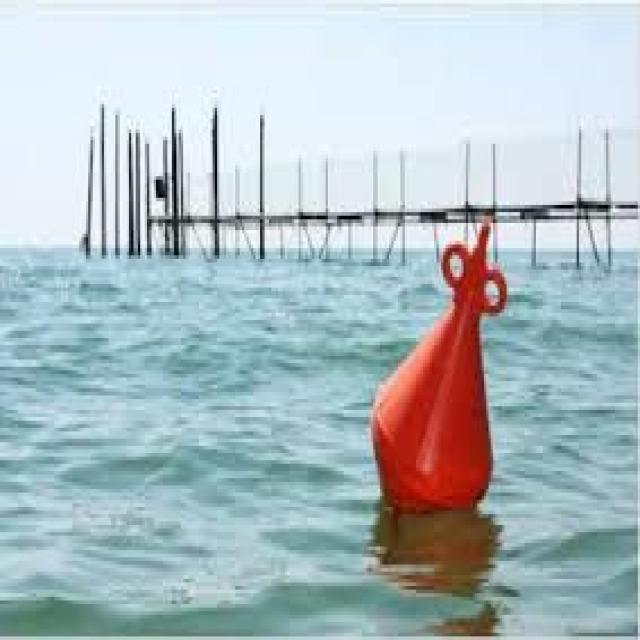Buoy: (363, 197, 517, 536)
